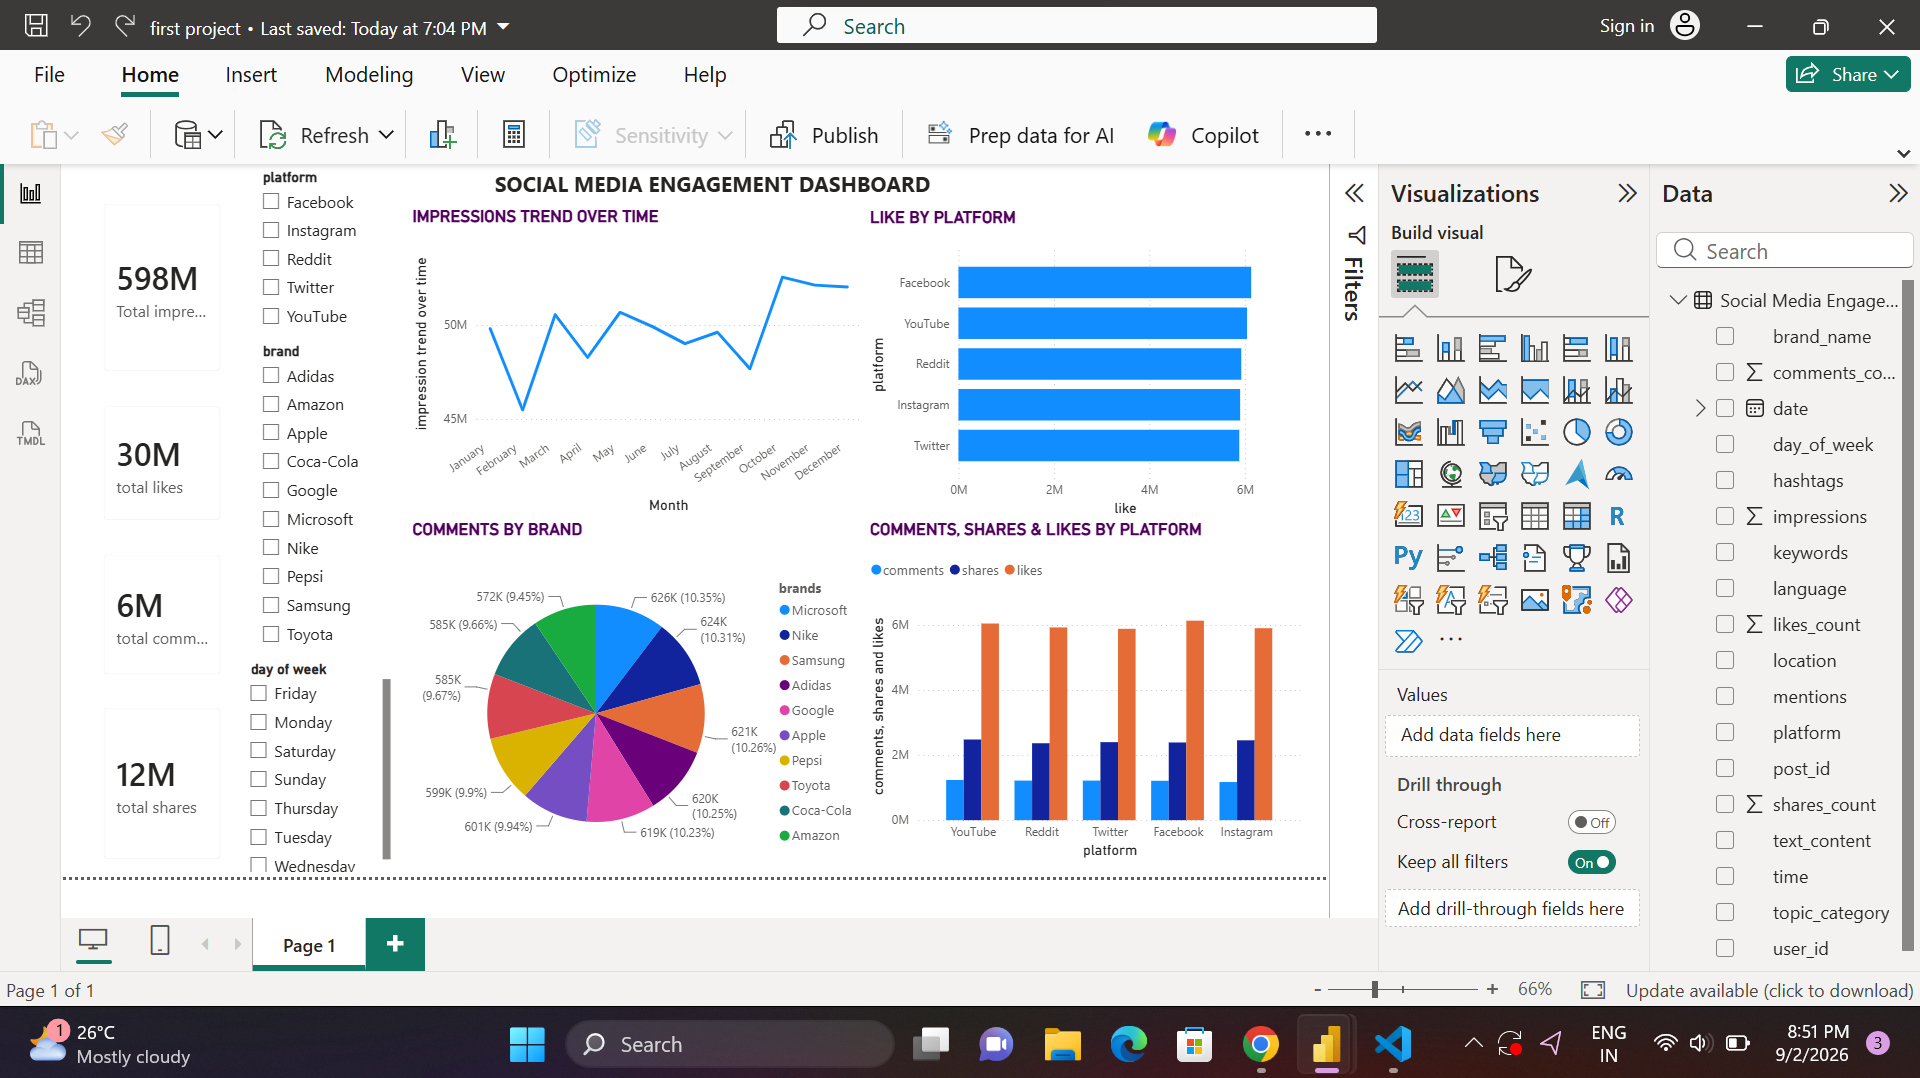

The dashboard page shown, as its layout file describes it:
{"tool":"powerbi","page":{"name":"Page 1","canvas":[1280,720],"ordinal":0},"visuals":[{"type":"lineChart","title":"IMPRESSIONS TREND OVER TIME","fields":{"Category":["Social Media Engagement Dataset.date.Variation.Date Hierarchy.Month"],"Y":["Sum(Social Media Engagement Dataset.impressions)"]},"box":[349.8,42.4,461.8,315],"z":0},{"type":"clusteredBarChart","title":"LIKE BY PLATFORM","fields":{"Y":["Sum(Social Media Engagement Dataset.likes_count)"],"Category":["Social Media Engagement Dataset.platform"]},"box":[811.2,43.7,445.3,315.7],"z":1},{"type":"pieChart","title":"COMMENTS BY BRAND","fields":{"Category":["Social Media Engagement Dataset.brand_name"],"Y":["Sum(Social Media Engagement Dataset.comments_count)"]},"box":[349.3,359.5,462.9,361],"z":2},{"type":"clusteredColumnChart","title":"COMMENTS, SHARES & LIKES BY PLATFORM","fields":{"Category":["Social Media Engagement Dataset.platform"],"Y":["Sum(Social Media Engagement Dataset.comments_count)","Sum(Social Media Engagement Dataset.shares_count)","Sum(Social Media Engagement Dataset.likes_count)"]},"box":[811.2,359.5,445.3,346.5],"z":3},{"type":"textbox","box":[100.4,0,1115.6,43.7],"z":4},{"type":"cardVisual","fields":{"Data":["Sum(Social Media Engagement Dataset.impressions)"]},"box":[26.2,23.3,152.8,203.8],"z":5},{"type":"cardVisual","fields":{"Data":["Sum(Social Media Engagement Dataset.likes_count)"]},"box":[25.7,227.1,152.9,149.9],"z":6},{"type":"cardVisual","fields":{"Data":["Sum(Social Media Engagement Dataset.comments_count)"]},"box":[26.2,377,152.8,155.7],"z":7},{"type":"cardVisual","fields":{"Data":["Sum(Social Media Engagement Dataset.shares_count)"]},"box":[26.2,531.3,152.8,187.8],"z":8},{"type":"slicer","fields":{"Values":["Social Media Engagement Dataset.platform"]},"box":[190.8,0,159,175.6],"z":9},{"type":"slicer","fields":{"Values":["Social Media Engagement Dataset.brand_name"]},"box":[190.8,175.6,159,321],"z":10},{"type":"slicer","fields":{"Values":["Social Media Engagement Dataset.day_of_week"]},"box":[178.7,496.7,159,222.6],"z":11}]}

Visuals, with their boxes on the page's 1280x720 design canvas (x1, y1, x2, y2). These are canvas units, not pixel positions in the 1920x1078 screenshot, which may show the page scaled, cropped or inside an application window:
"IMPRESSIONS TREND OVER TIME" lineChart: 350/42/812/357
"LIKE BY PLATFORM" clusteredBarChart: 811/44/1256/359
"COMMENTS BY BRAND" pieChart: 349/360/812/720
"COMMENTS, SHARES & LIKES BY PLATFORM" clusteredColumnChart: 811/360/1256/706
textbox: 100/0/1216/44
cardVisual - Sum(Social Media Engagement Dataset.impressions): 26/23/179/227
cardVisual - Sum(Social Media Engagement Dataset.likes_count): 26/227/179/377
cardVisual - Sum(Social Media Engagement Dataset.comments_count): 26/377/179/533
cardVisual - Sum(Social Media Engagement Dataset.shares_count): 26/531/179/719
slicer - Social Media Engagement Dataset.platform: 191/0/350/176
slicer - Social Media Engagement Dataset.brand_name: 191/176/350/497
slicer - Social Media Engagement Dataset.day_of_week: 179/497/338/719
